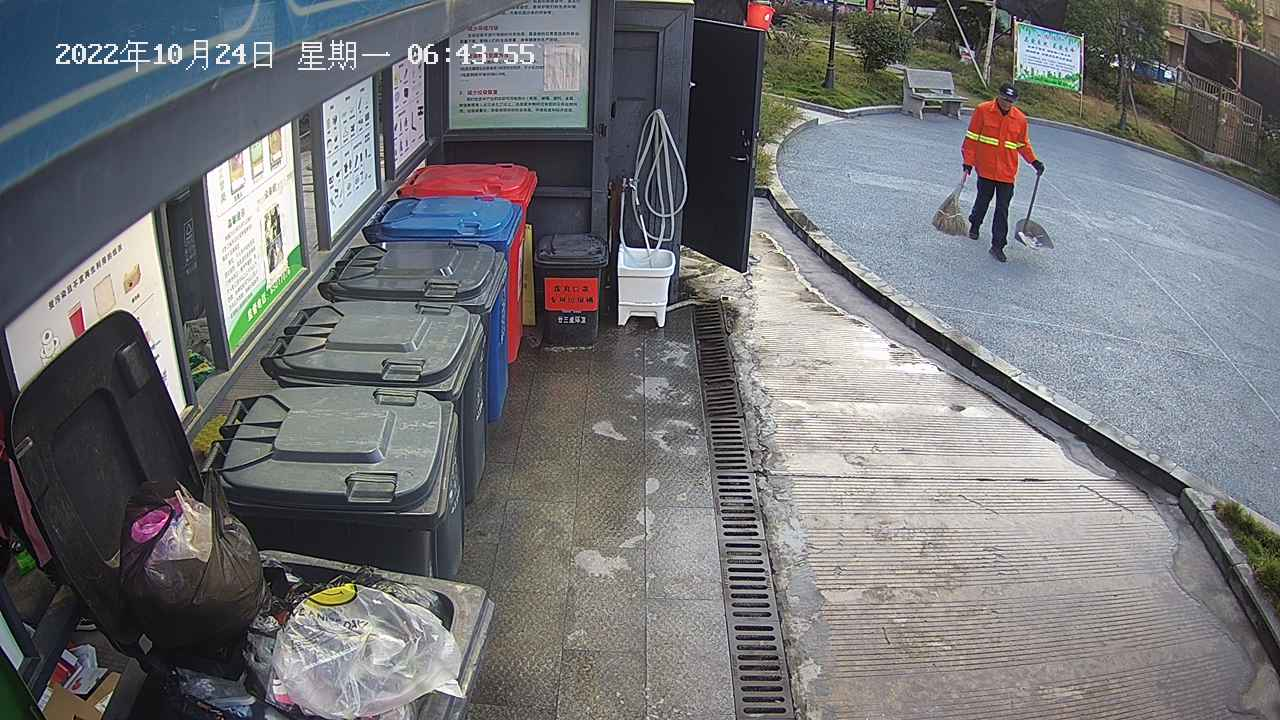worker: (959, 79, 1050, 270)
